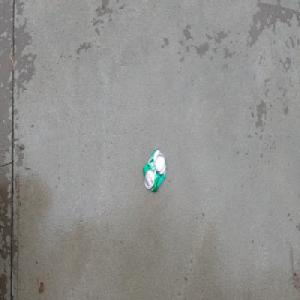SodaCan: (142, 148, 167, 194)
